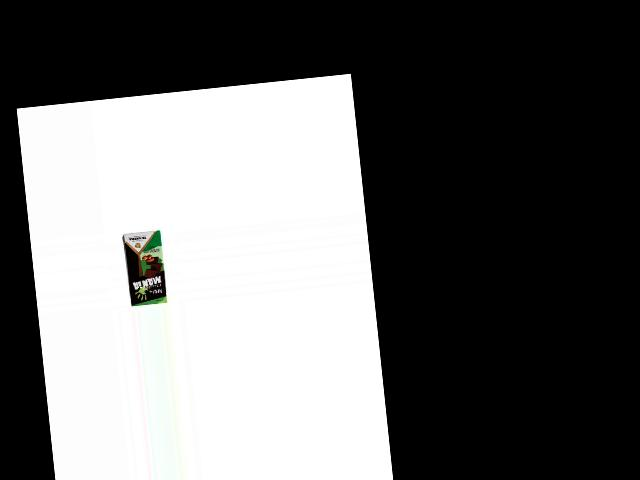chocolate: (121, 228, 169, 308)
